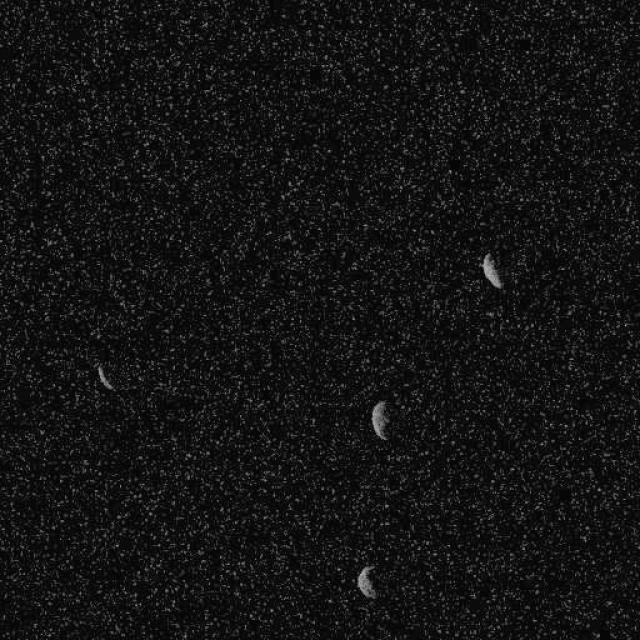D2: (480, 251, 504, 289), (370, 400, 392, 441), (355, 564, 377, 600), (95, 364, 114, 391)
